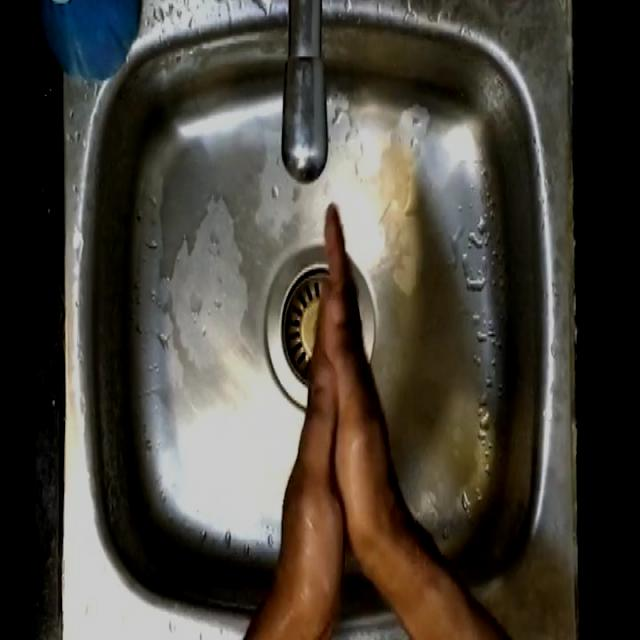step_1: (262, 192, 414, 605)
